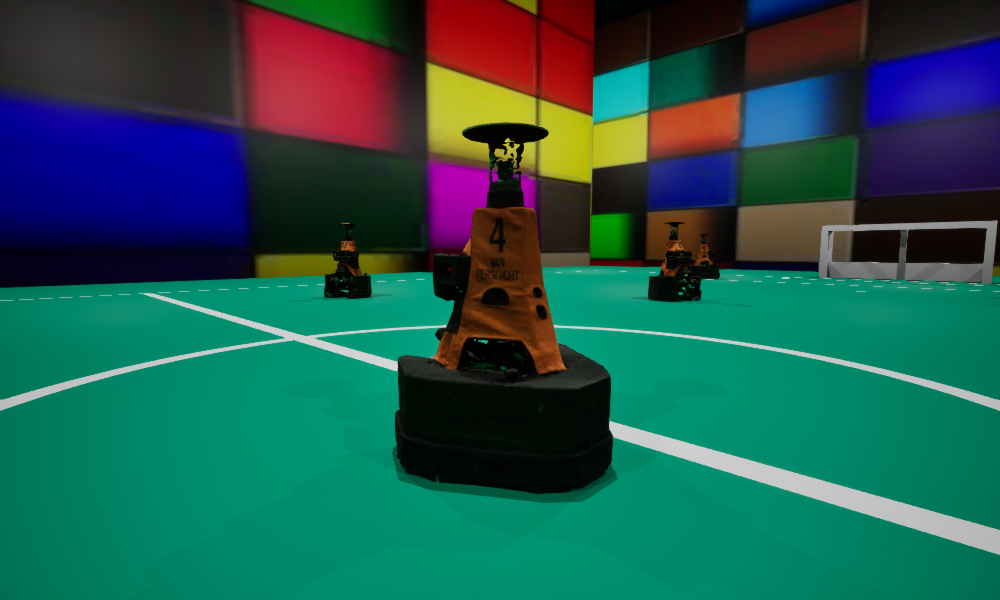o: (395, 122, 612, 493), (648, 222, 701, 301), (324, 223, 371, 297), (688, 234, 719, 278)
